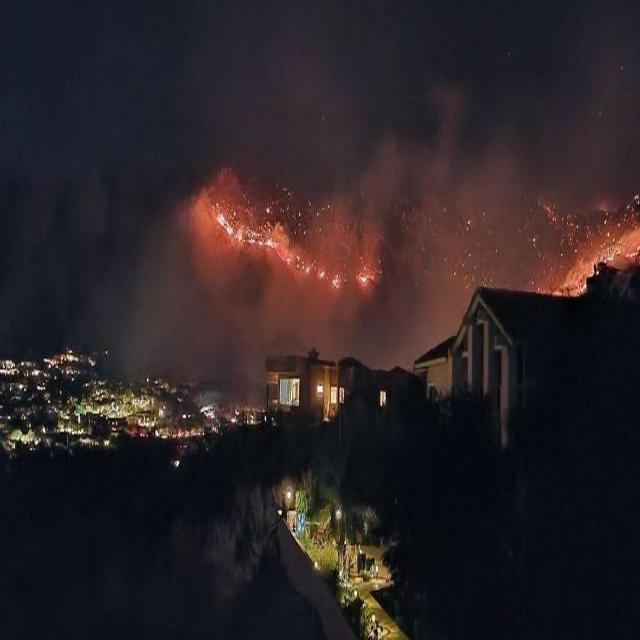Fire: (556, 230, 629, 294), (217, 209, 232, 238), (332, 271, 342, 287), (248, 234, 258, 250), (359, 271, 368, 284), (264, 239, 274, 250)
